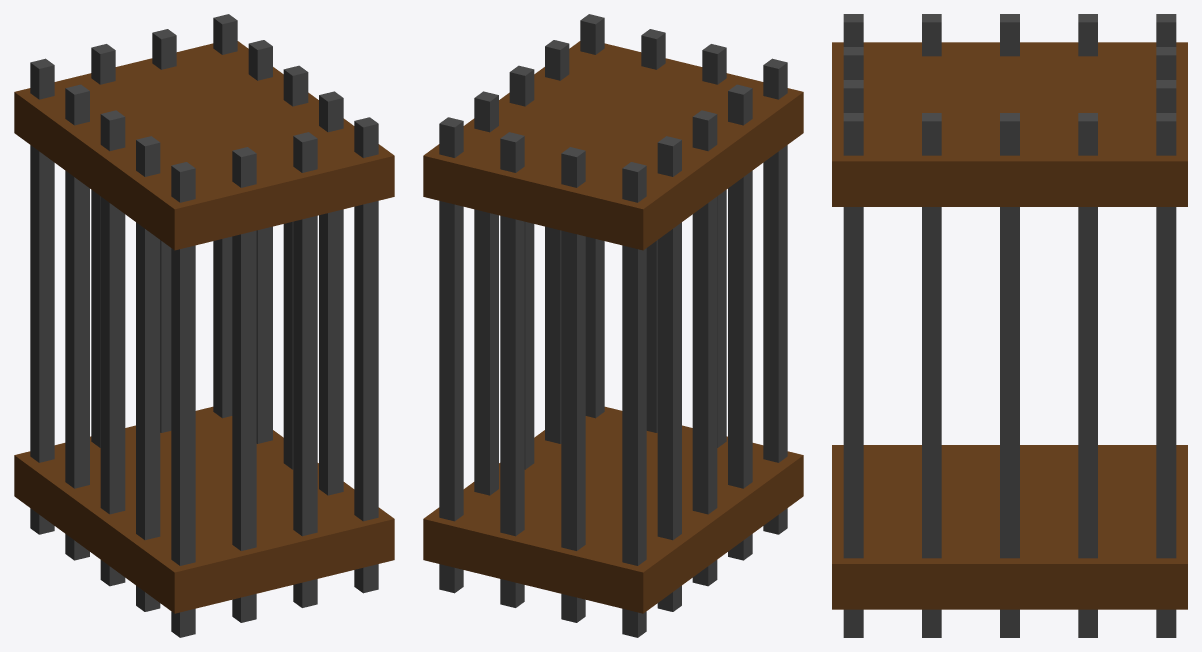
Rendered from cage_2.fbx.
3 renders of one model, left to right at view 1: azimuth 30°, elevation 25°; view 2: azimuth 150°, elevation 25°; view 3: azimuth 270°, elevation 25°, orthographic. The views are drawn at different scales.
Visible parts, largest first — view 1: cage_2; view 2: cage_2; view 3: cage_2.
Boxes of the visible parts, x1,y1,x2,y2 form: cage_2: (14, 14, 394, 637); cage_2: (423, 14, 803, 637); cage_2: (832, 14, 1187, 637).
Bounding box in the file's own units: 289 × 584 × 365.
